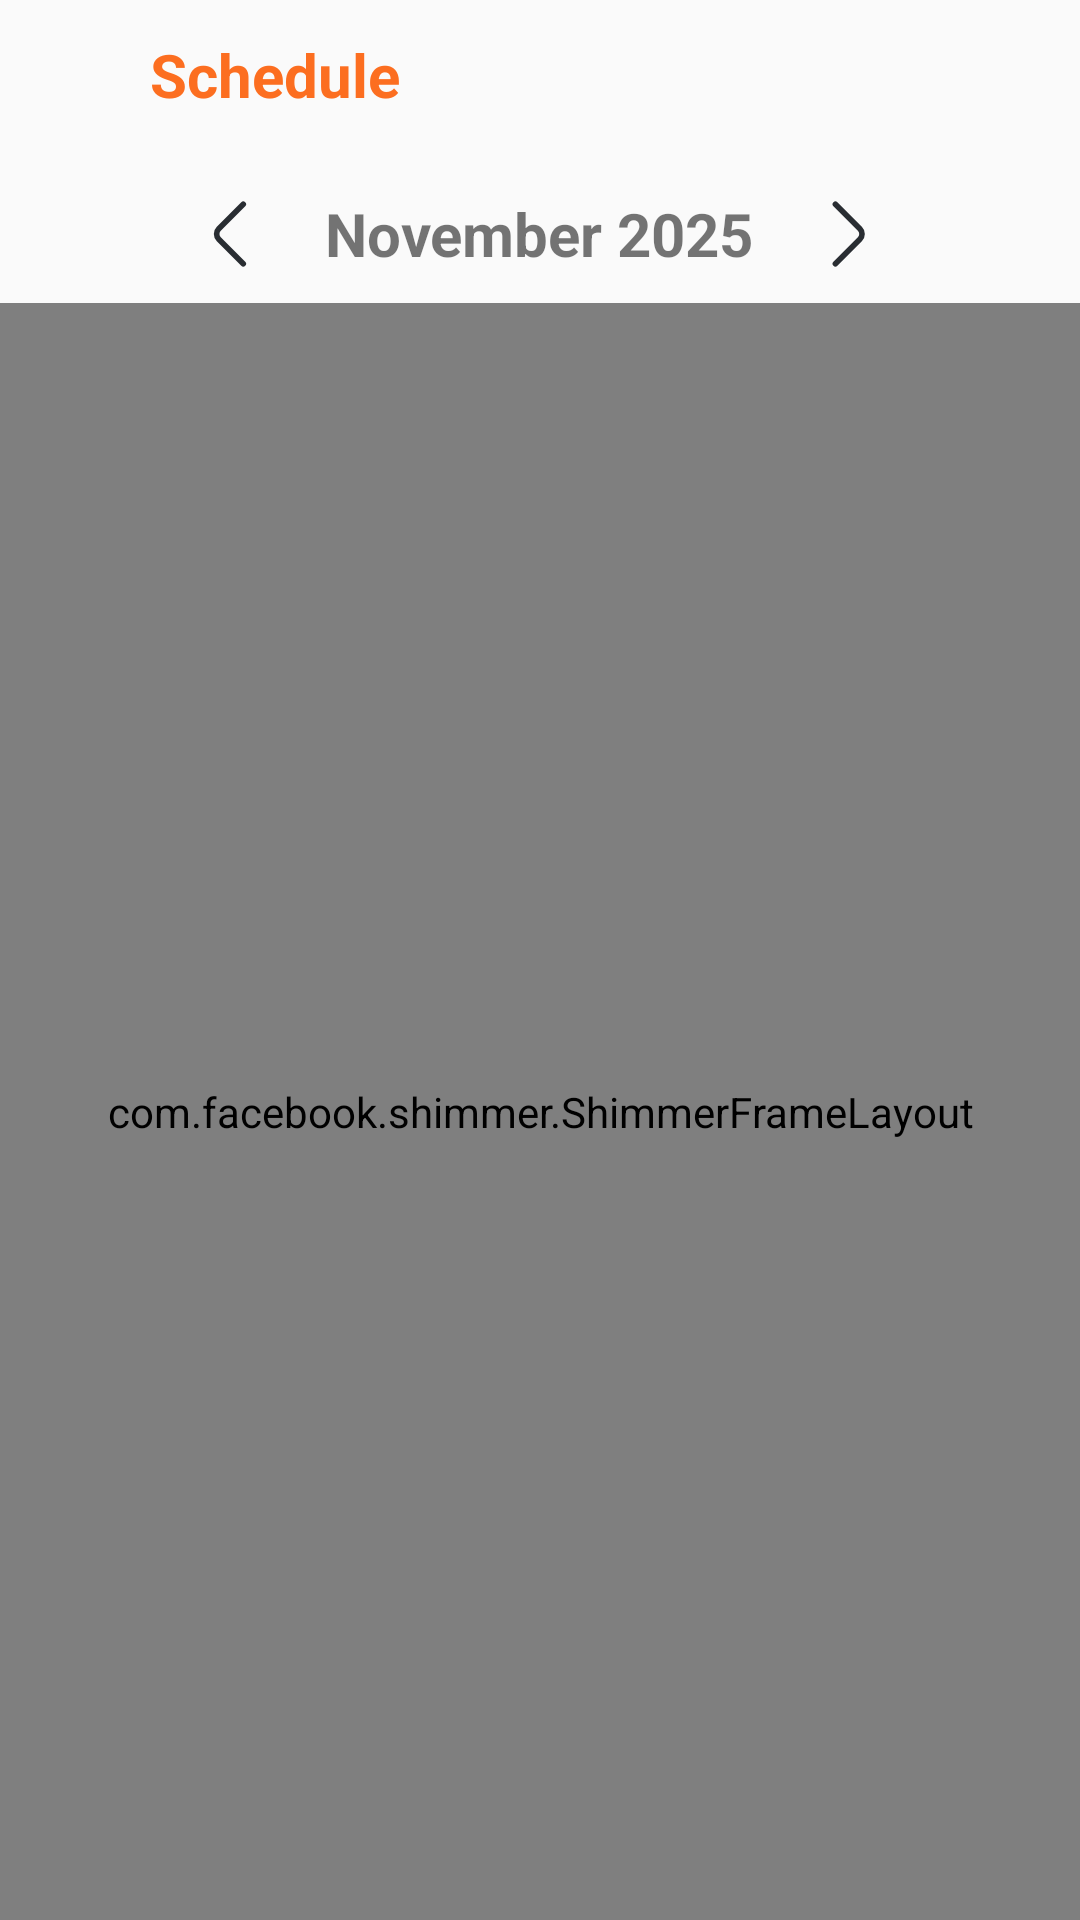

Screen size 1080px×1920px. Icon name, then its box in pixels as (x1, y1, x2, y2):
before: (214, 201, 247, 267)
next: (832, 201, 865, 267)
